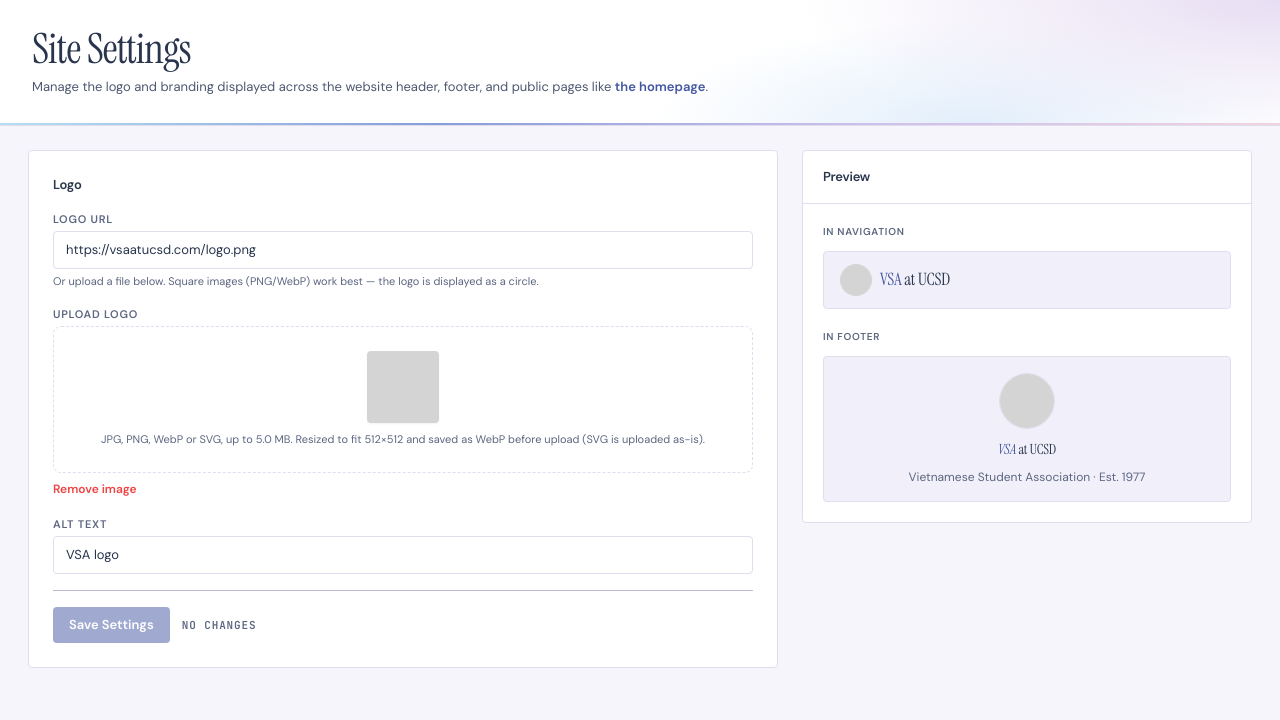
Test case: Admin Settings shared form shell (#258) › rejects a non-http logo URL without writing settings
Replace the text in the field labelled "Logo URL" with "javascript:alert(1)" at (403, 250), box top-left (53, 231), bottom-right (753, 269)
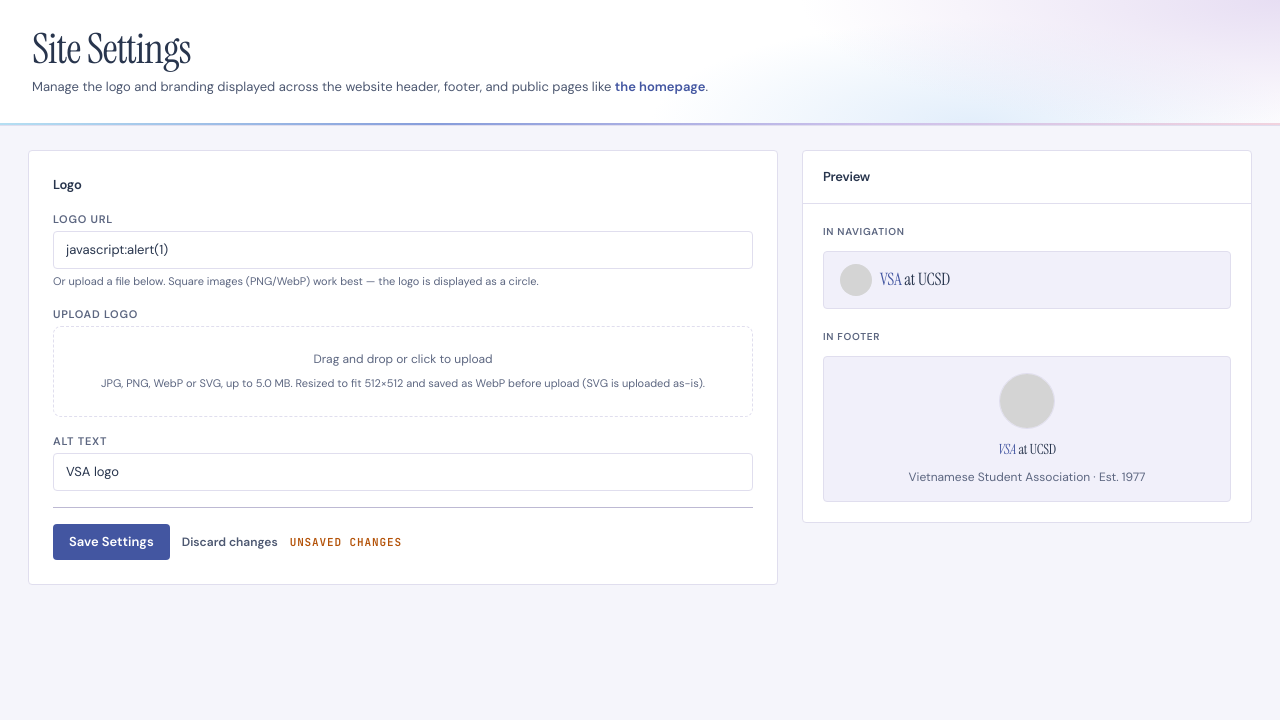
Click the button "Save Settings" at (111, 542), box top-left (53, 524), bottom-right (170, 560)
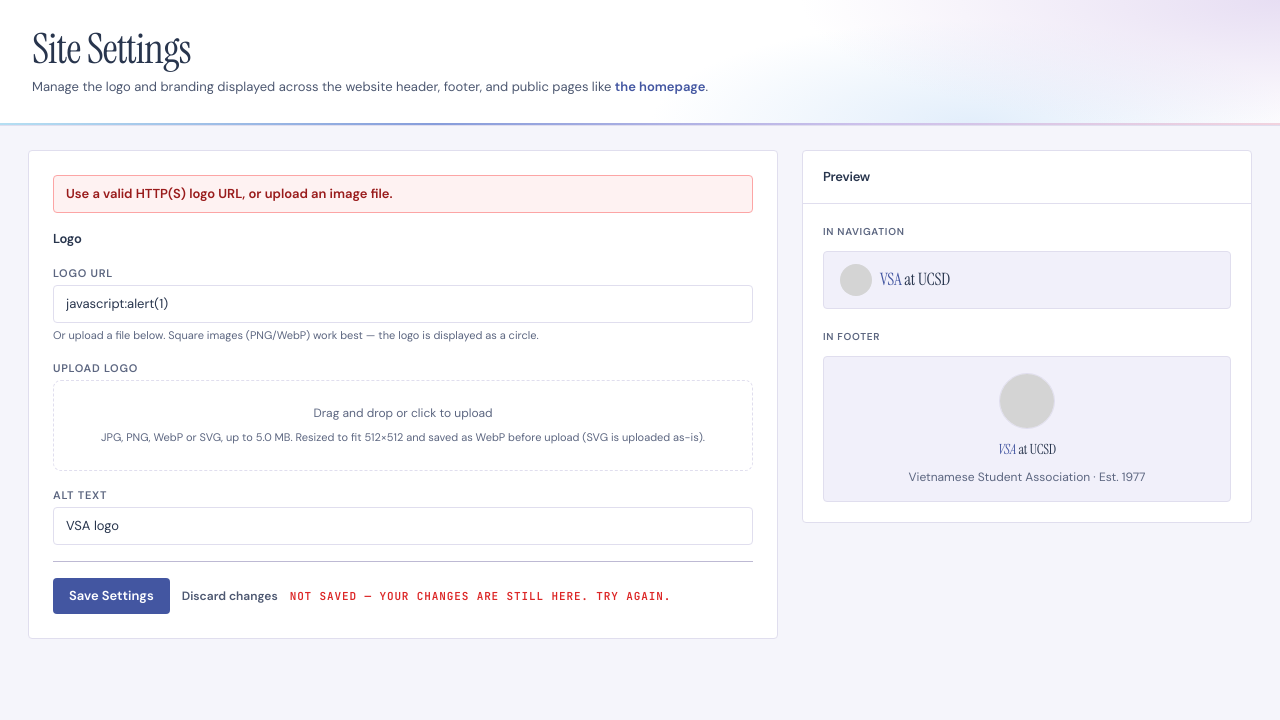
Expected: the message "Use a valid HTTP(S) logo URL, or upload an image file." is shown, top-left (53, 175), bottom-right (753, 213)
